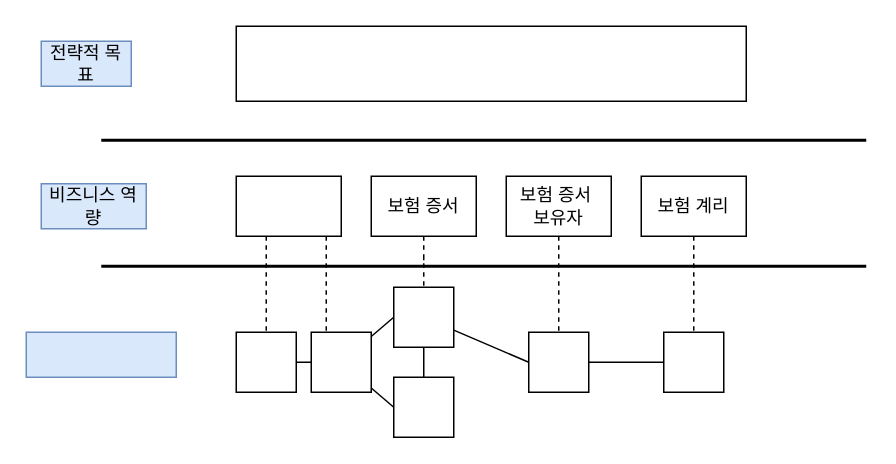
The diagram is 896 pixels wide and 464 high, and some of its shapes have lost their labels. Each missing label, with the centre of its shape:
"청구" belongs at (x=288, y=205).
"청구 요청 확인 비즈니스 프로세서" belongs at (x=100, y=354).
"화이트 레이블 보험" belongs at (x=490, y=63).
